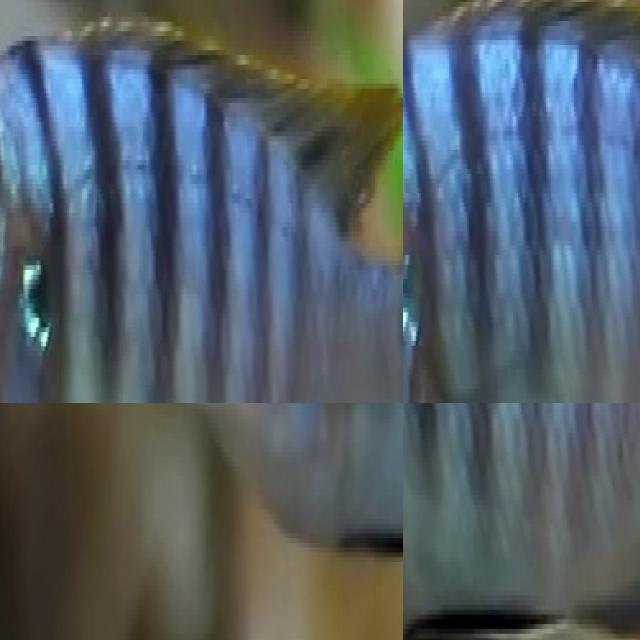fish: (0, 0, 403, 403), (403, 0, 640, 403), (51, 403, 403, 619)
